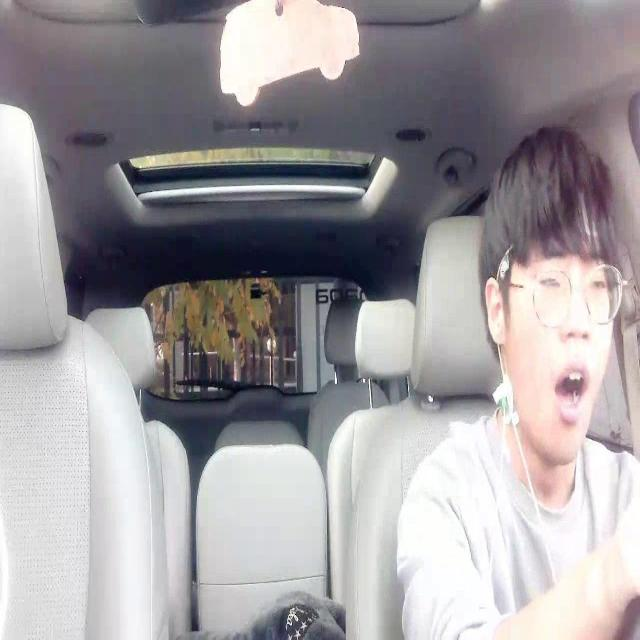Yawning: (553, 358, 590, 427)
